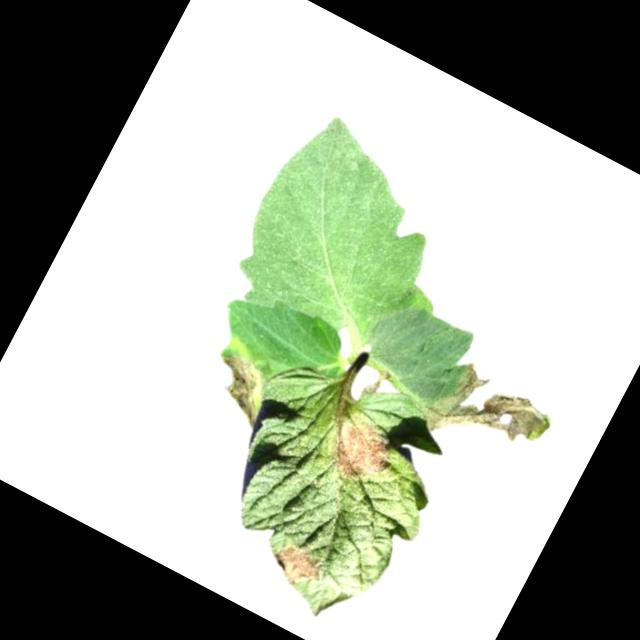Late_blight: (414, 351, 560, 481), (189, 330, 287, 430), (313, 404, 404, 493), (262, 535, 332, 600)
healthy: (210, 99, 493, 379)
